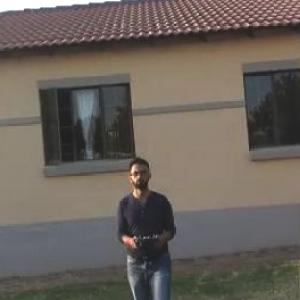follow: (114, 152, 180, 299)
